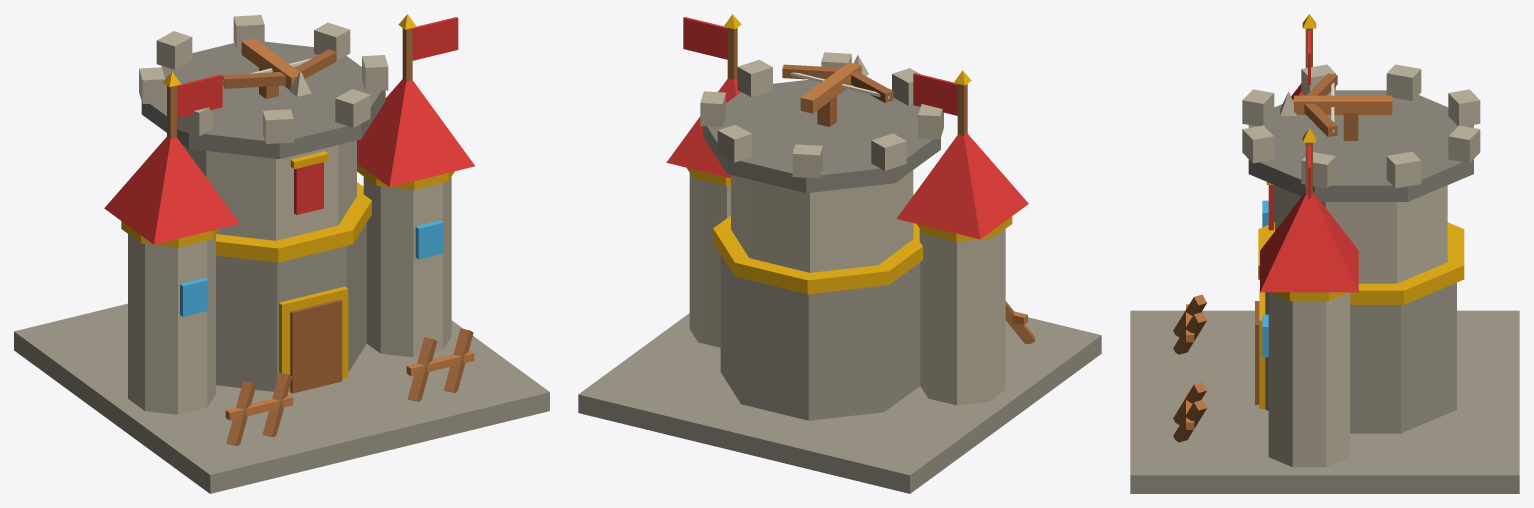
File: defense_tower_t3_v1.glb
The picture shows the model from 3 angles, left to right: view 1: azimuth 30°, elevation 25°; view 2: azimuth 150°, elevation 25°; view 3: azimuth 270°, elevation 25°; orthographic projection. The views are drawn at different scales.
Parts seen in each view (by area): view 1: defense_tower_t3_v1; view 2: defense_tower_t3_v1; view 3: defense_tower_t3_v1.
Part boxes in pixels (left/top/right/bottom): defense_tower_t3_v1: left=14, top=14, right=549, bottom=493; defense_tower_t3_v1: left=578, top=14, right=1101, bottom=493; defense_tower_t3_v1: left=1130, top=14, right=1519, bottom=493.
Size of the model in its own units: 0.75 by 0.725 by 0.75.
1 material, 1 textured.
